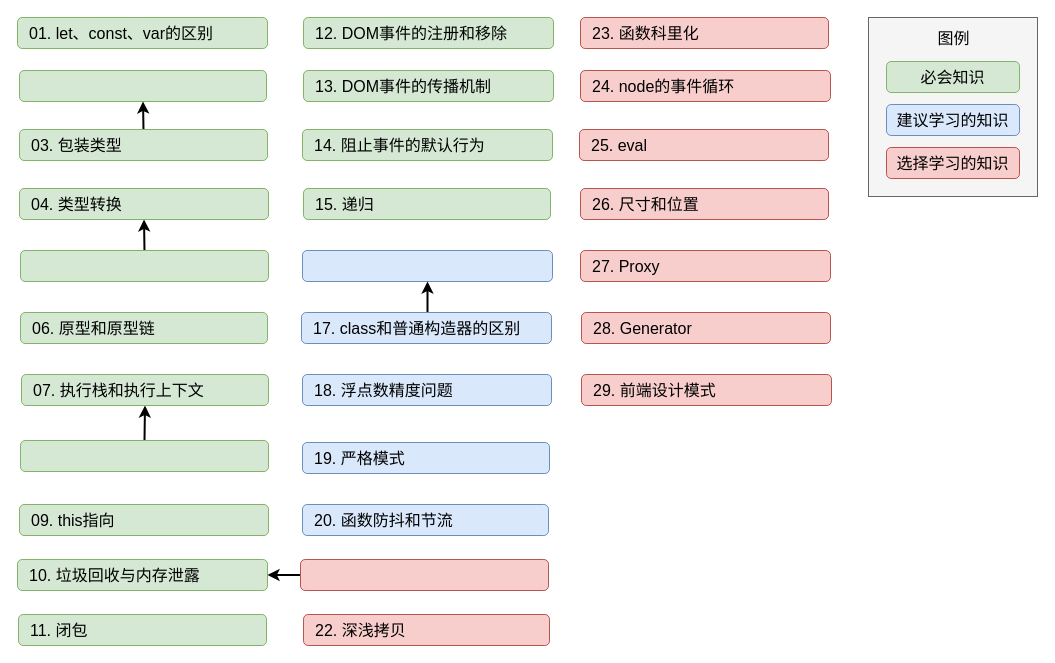
Image size: 1055x663. Some labels were removed from this diagram. Each missing label, with the box of its shape:
02. 值和引用: (18, 70, 266, 102)
05. 运算符: (20, 250, 268, 282)
08. 作用域和作用域链: (20, 440, 268, 472)
16. 属性描述符: (302, 250, 552, 282)
21. WeakSet和WeakMap: (300, 558, 548, 590)
